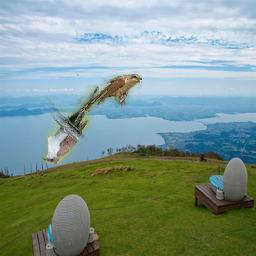Cuckoo: (43, 86, 100, 165), (78, 74, 143, 112)
